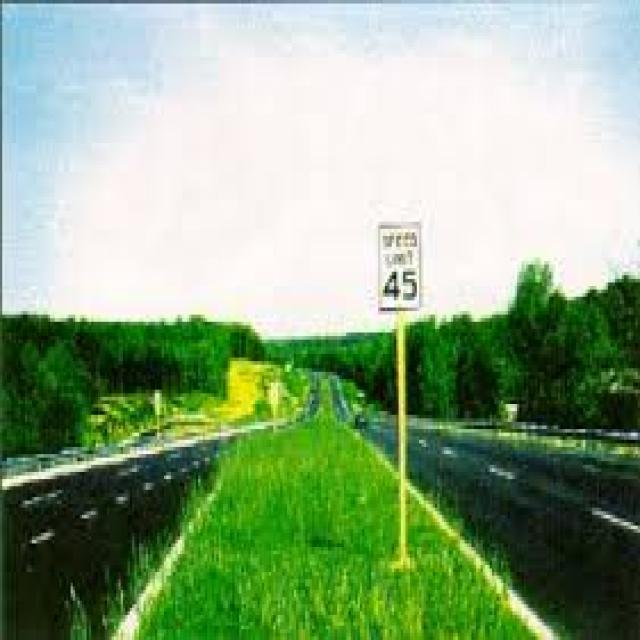speedLimit45: (376, 222, 424, 314)
